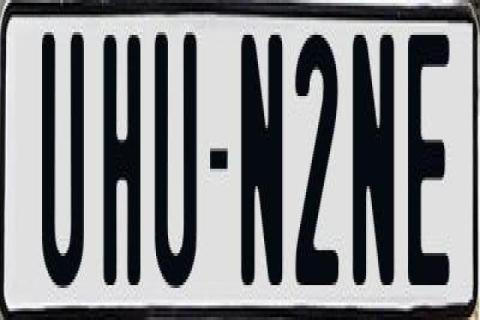0: (296, 35, 342, 294)
E: (404, 29, 452, 297)
H: (100, 35, 140, 288)
N: (350, 29, 390, 294), (238, 35, 278, 297)
U: (154, 32, 202, 300), (40, 32, 84, 302)
